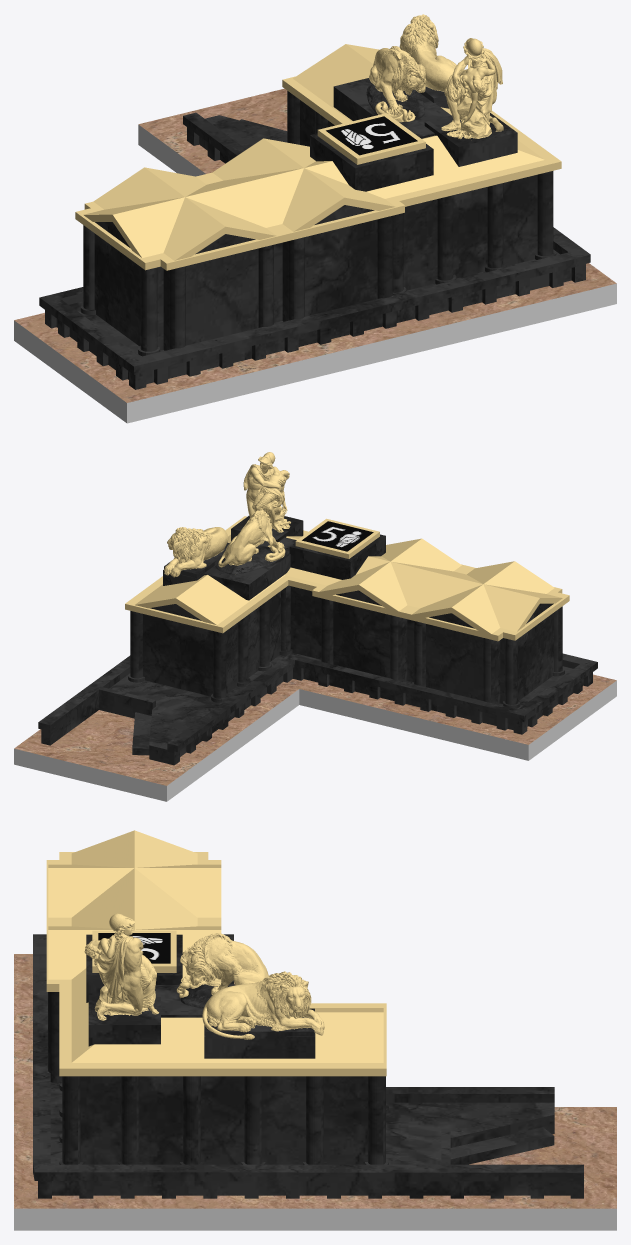
Rendered from buildingTemploMarte.glb.
The picture shows the model from 3 angles, top to bottom: view 1: azimuth 30°, elevation 25°; view 2: azimuth 150°, elevation 25°; view 3: azimuth 270°, elevation 25°; orthographic projection. The views are drawn at different scales.
Visible parts, largest first — view 1: TemploMarte; view 2: TemploMarte; view 3: TemploMarte.
Boxes of the visible parts, x1,y1,x2,y2 form: TemploMarte: [14, 14, 616, 423]; TemploMarte: [14, 452, 616, 801]; TemploMarte: [14, 830, 616, 1230].
Bounding box in the file's own units: 5 × 2.45 × 5.
5 materials, 3 textured.
